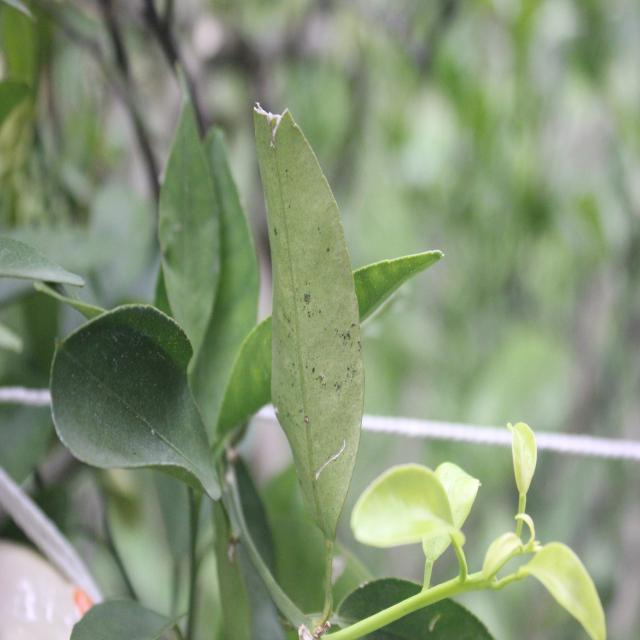melanose: (248, 120, 368, 497)
